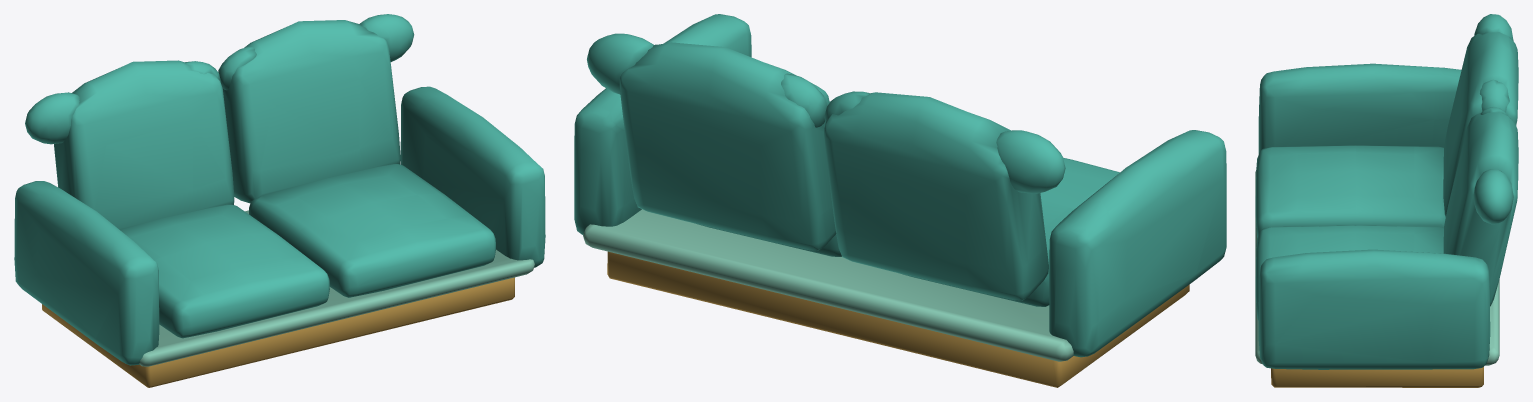
The model's file is sofa-teal.glb.
3 renders of one model, left to right at view 1: azimuth 30°, elevation 25°; view 2: azimuth 150°, elevation 25°; view 3: azimuth 270°, elevation 25°, orthographic. The views are drawn at different scales.
Visible parts, largest first — view 1: sofa-teal; view 2: sofa-teal; view 3: sofa-teal.
Part boxes in pixels (box(x1,y1,x2,y2)): sofa-teal: box(14, 14, 545, 387); sofa-teal: box(574, 14, 1226, 387); sofa-teal: box(1255, 14, 1518, 387).
Bounding box in the file's own units: 1.59 × 0.7786 × 0.8622.
